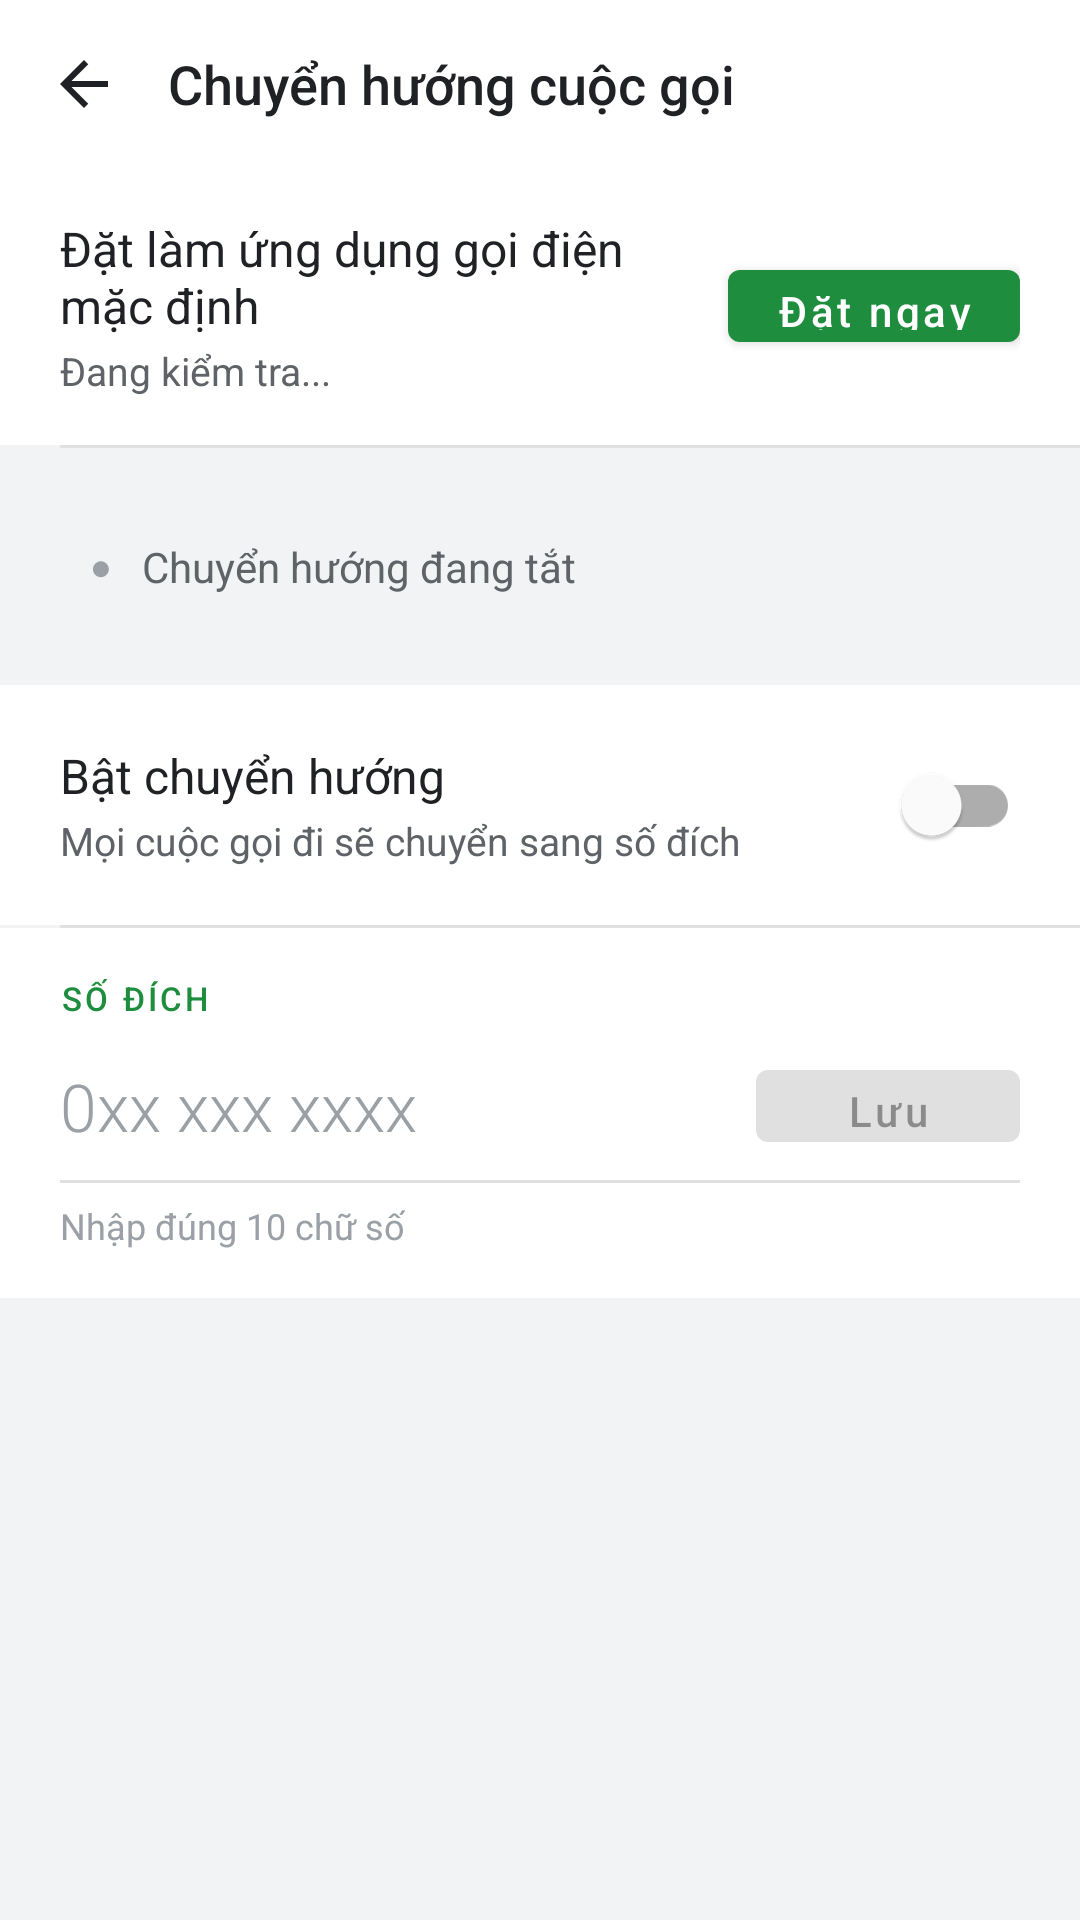

Icon bounding boxes for this 1080px x 1920px phone screenshot, format (x1, y1, x2, y2):
Quay lại: (60, 60, 108, 108)
